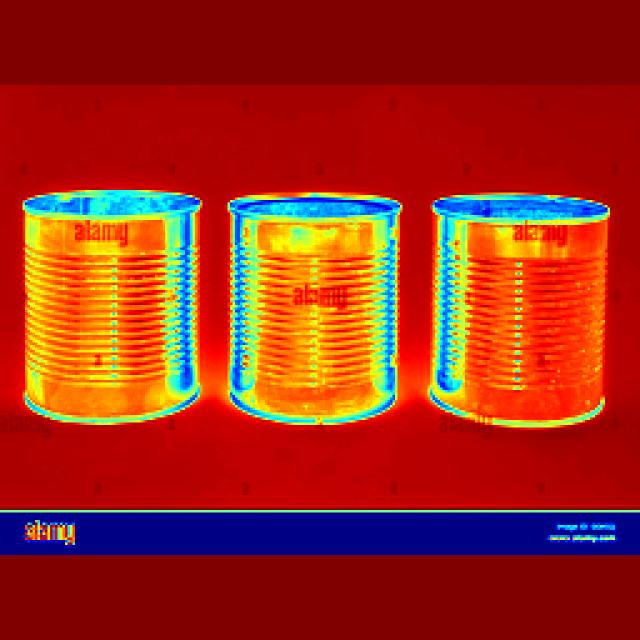Aluminium Food Cans: (5, 177, 198, 448), (421, 173, 602, 440), (221, 178, 400, 430)
